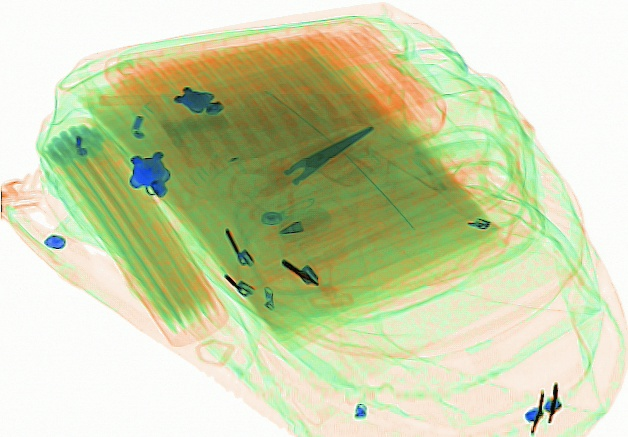scissors: (226, 124, 375, 233)
